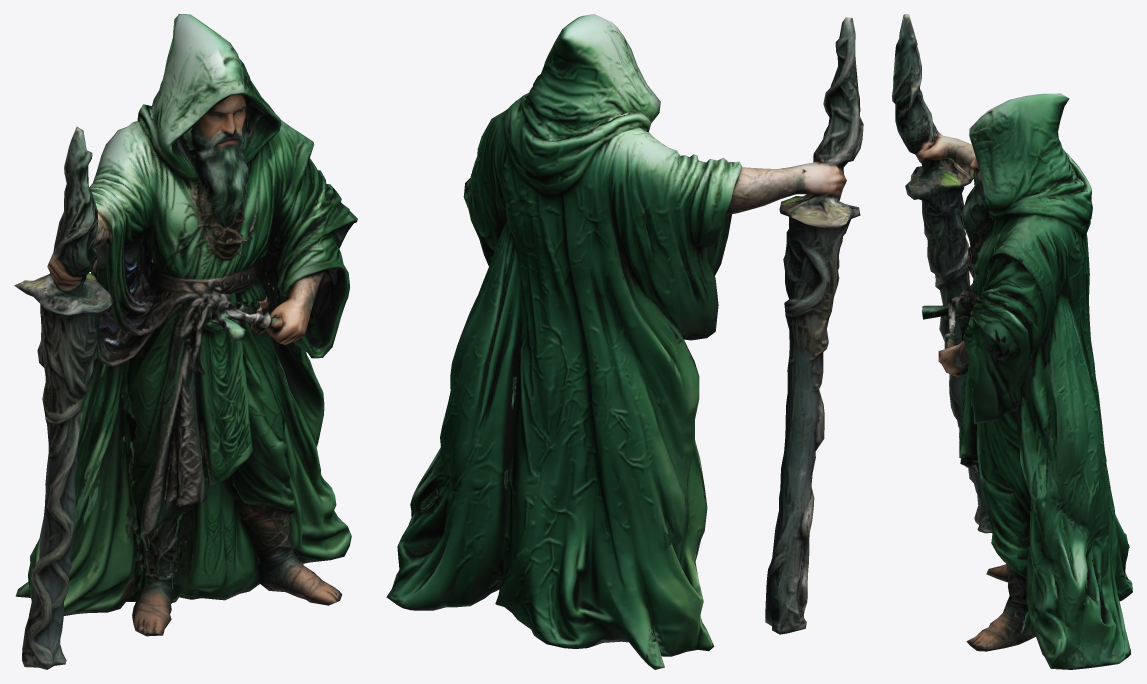
Rendered from Charondell (small).glb.
The picture shows the model from 3 angles, left to right: view 1: azimuth 30°, elevation 25°; view 2: azimuth 150°, elevation 25°; view 3: azimuth 270°, elevation 25°; orthographic projection. The views are drawn at different scales.
Visible parts, largest first — view 1: Mesh1.0; view 2: Mesh1.0; view 3: Mesh1.0.
Part boxes in pixels (<box>): Mesh1.0: <box>14,14,357,669</box>; Mesh1.0: <box>386,14,863,669</box>; Mesh1.0: <box>892,14,1132,669</box>.
Size of the model in its own units: 1.35 by 1.91 by 0.8175.
1 material, 1 textured.
